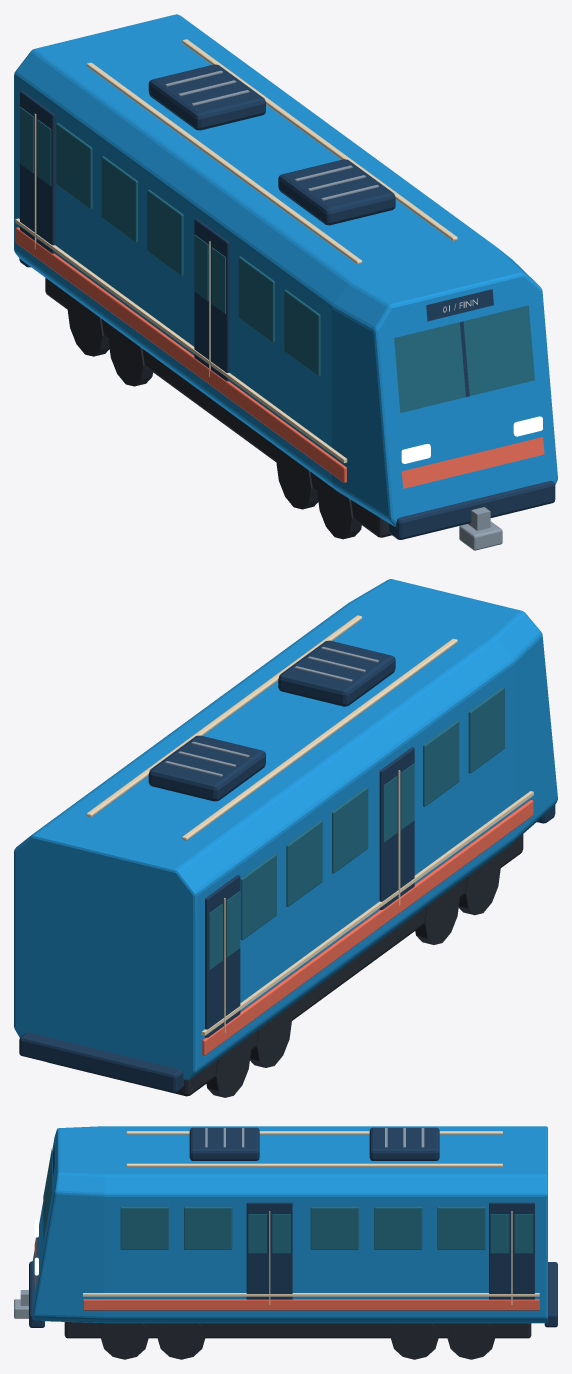
The model's file is train_a.glb.
The picture shows the model from 3 angles, top to bottom: view 1: azimuth 30°, elevation 25°; view 2: azimuth 150°, elevation 25°; view 3: azimuth 270°, elevation 25°; orthographic projection. The views are drawn at different scales.
Parts seen in each view (by area): view 1: Train_A_StaticMesh; view 2: Train_A_StaticMesh; view 3: Train_A_StaticMesh.
Part boxes in pixels (bbox=[...]): Train_A_StaticMesh: bbox=[14, 14, 557, 550]; Train_A_StaticMesh: bbox=[14, 579, 557, 1097]; Train_A_StaticMesh: bbox=[14, 1126, 557, 1359].
Size of the model in its own units: 4.58 by 6.52 by 16.32.
